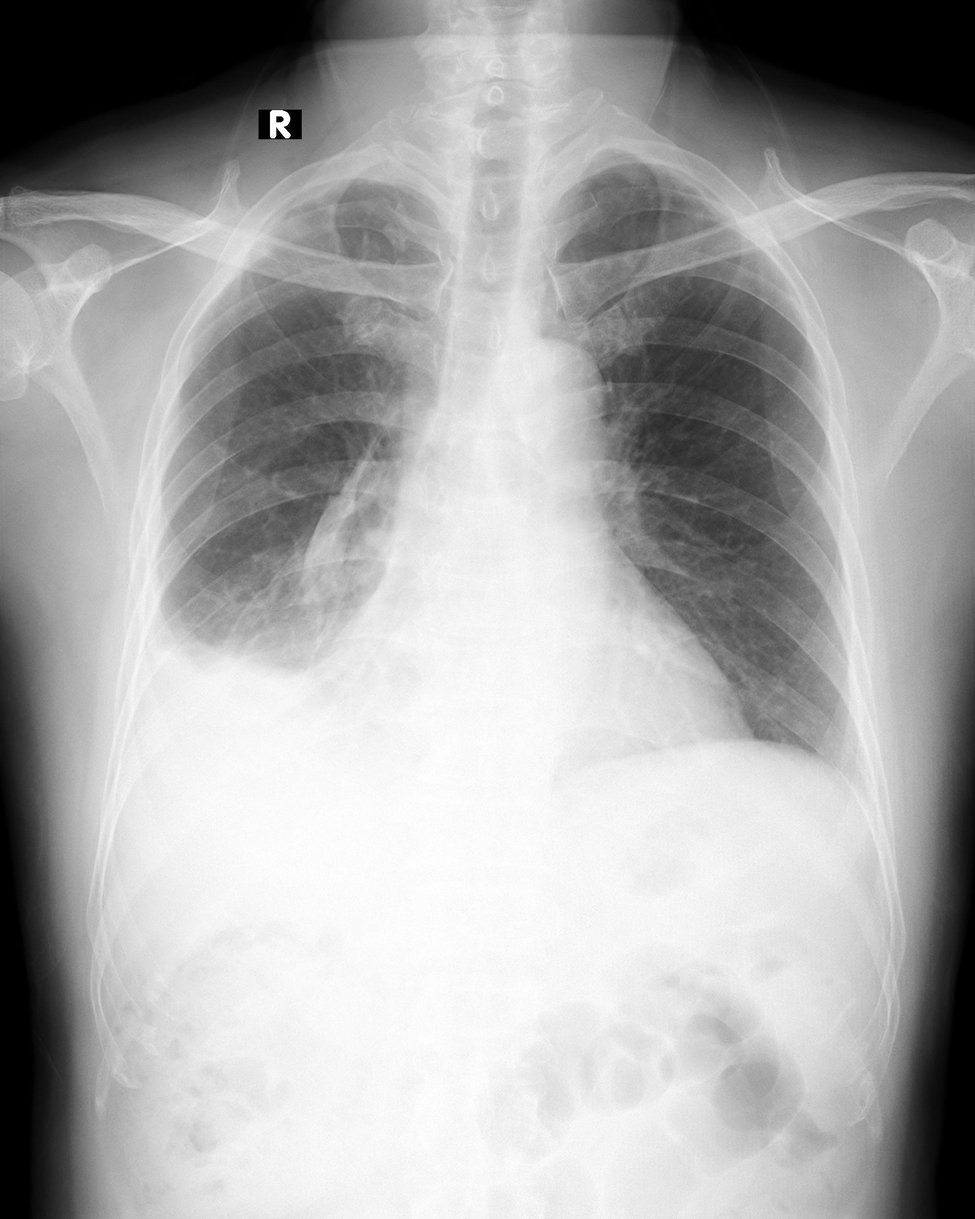Aortic enlargement: (496, 338, 607, 461)
Cardiomegaly: (321, 616, 750, 775)
Pleural thickening: (562, 159, 728, 213), (259, 175, 420, 229)
Pulmonary fibrosis: (225, 425, 385, 667)
